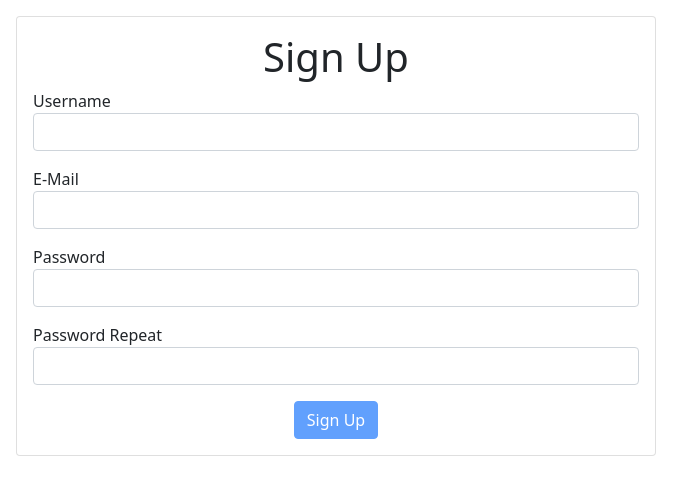
interaction › displays Email can not be null for email
Type "user1" into the field labelled "Username" at (336, 132), box [33,113,639,151]
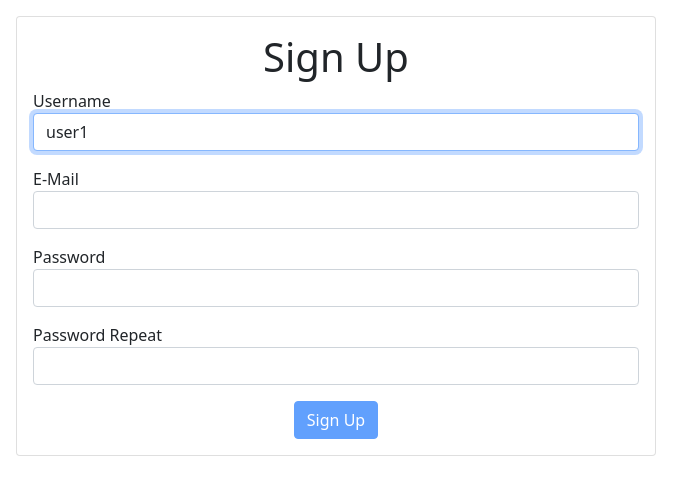
Type "user1@mail.com" into the field labelled "E-Mail" at (336, 210), box [33,191,639,229]
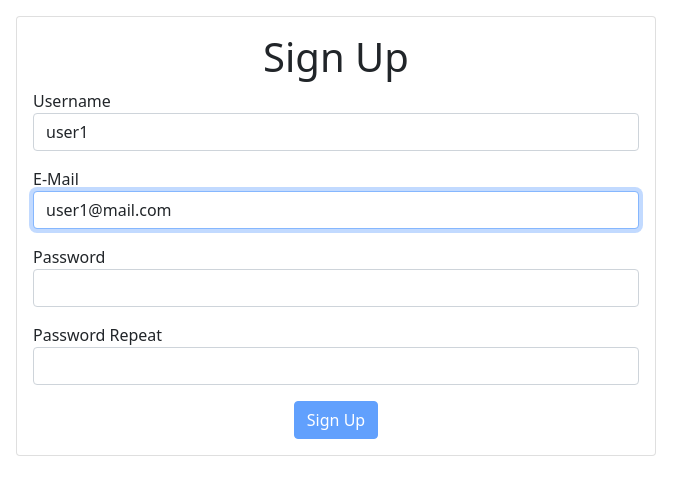
Type "P4ssword" into the password field labelled "Password" at (336, 288), box [33,269,639,307]
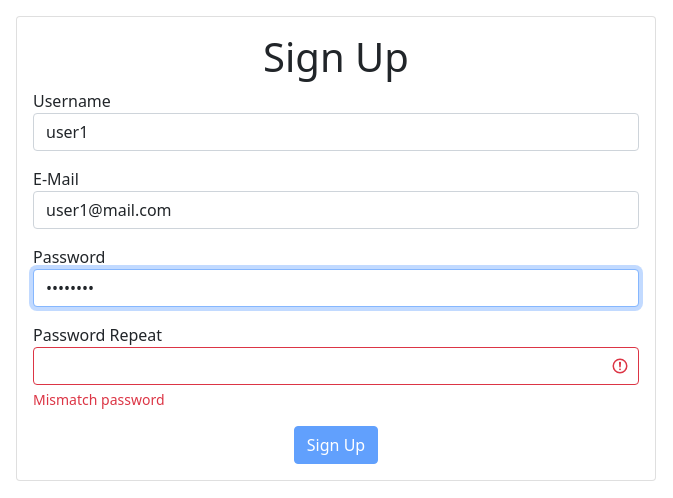
Type "P4ssword" into the password field labelled "Password Repeat" at (336, 366), box [33,347,639,385]
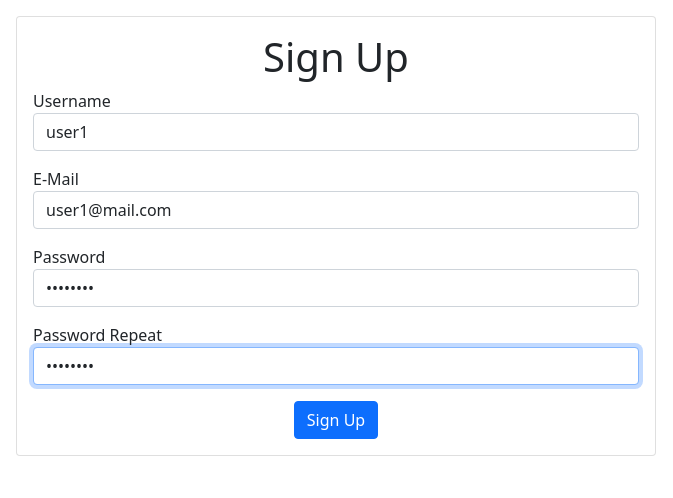
Click the button "Sign Up" at (336, 420), box [294,401,378,439]
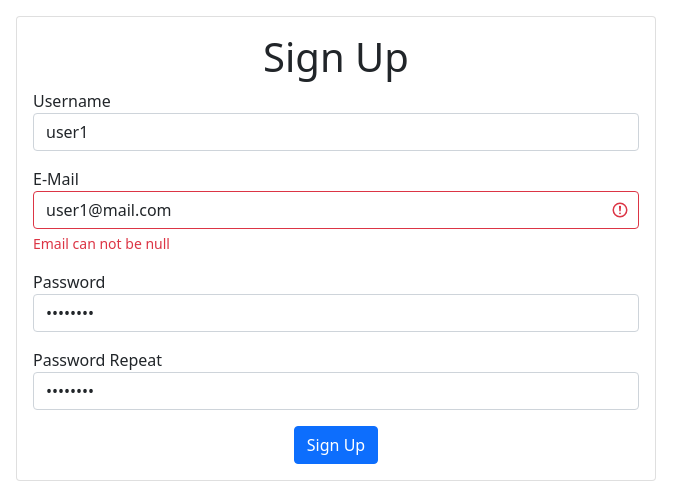
Expected: the text "Email can not be null" is shown, [33,234,170,253]
